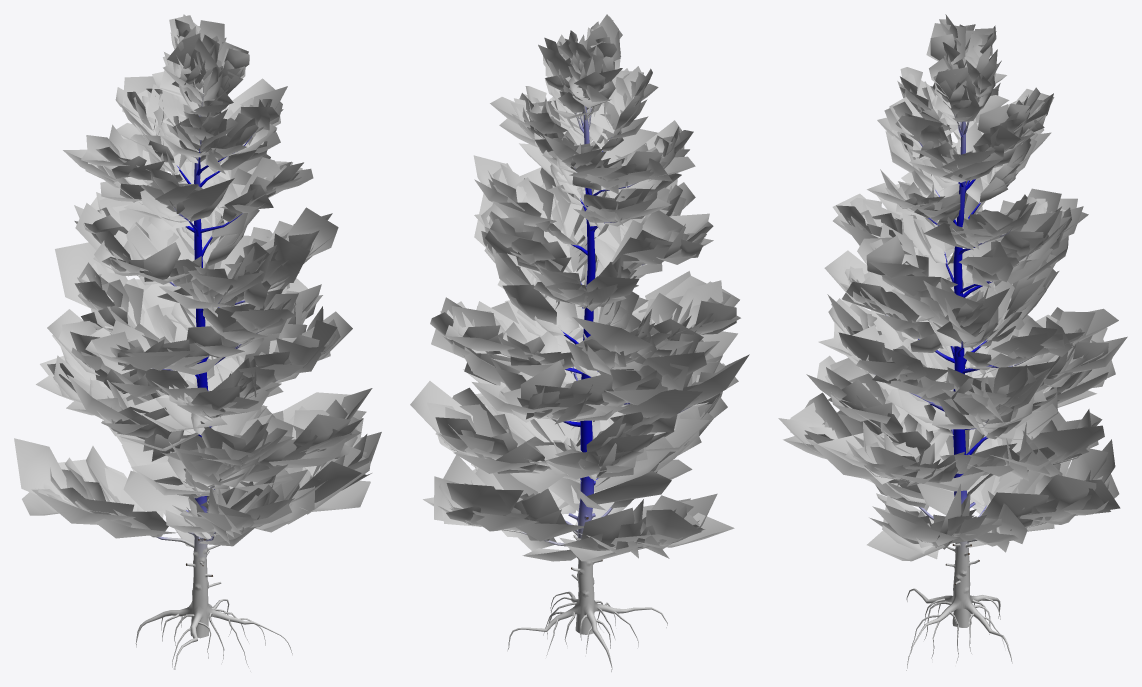
The model's file is Pine_04_LOD0.fbx.
3 views of the same model, side by side, from view 1: azimuth 30°, elevation 25°; view 2: azimuth 150°, elevation 25°; view 3: azimuth 270°, elevation 25° (orthographic). The views are drawn at different scales.
Visible parts, largest first — view 1: polySurface3061; view 2: polySurface3061; view 3: polySurface3061.
Part boxes in pixels (left/top/right/bottom): polySurface3061: left=14, top=14, right=381, bottom=671; polySurface3061: left=410, top=14, right=749, bottom=671; polySurface3061: left=778, top=14, right=1127, bottom=670.
Size of the model in its own units: 1138 by 2182 by 1101.
